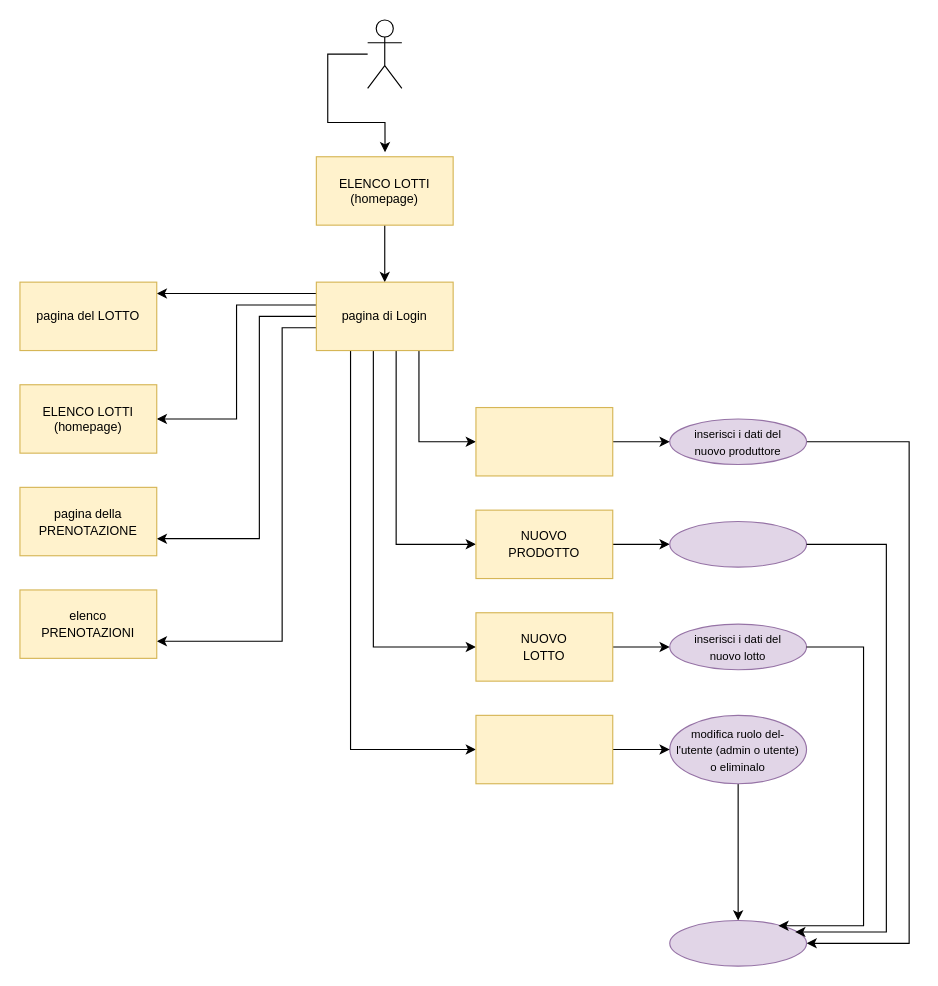
This 938x986 diagram has some shape labels left out. The box of each missing label's shape, as (x1, y1, x2, y2) in pixels:
Amministratore: (367, 19, 402, 88)
click per logout: (669, 919, 807, 966)
GESTIONE UTENTI: (475, 714, 613, 784)
inserisci i dati del nuovo prodotto: (669, 520, 807, 567)
NUOVO PRODUTTORE: (475, 406, 613, 476)
